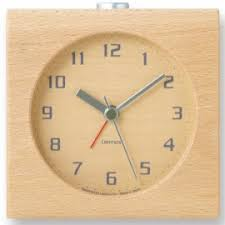alarm_clock: (1, 3, 222, 220)
